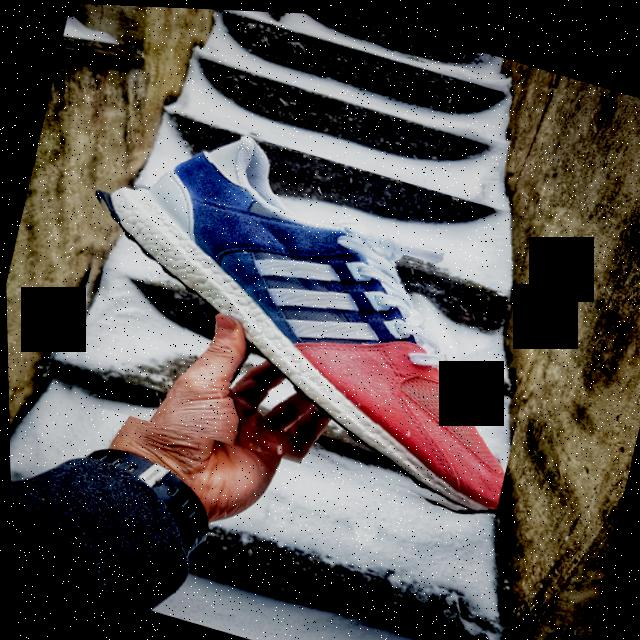shoe: (42, 94, 565, 521)
